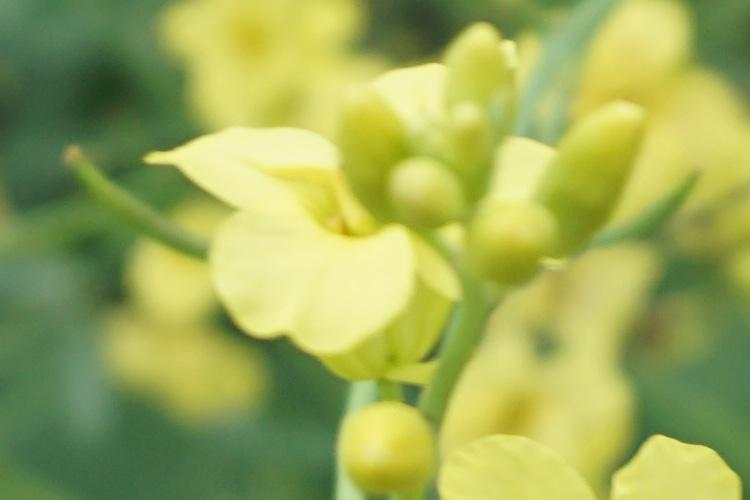bud: (539, 113, 641, 245), (453, 31, 533, 128), (344, 401, 436, 485), (468, 204, 557, 282), (342, 98, 406, 206), (391, 166, 463, 223), (459, 107, 498, 175)
yellow: (167, 72, 524, 354), (463, 248, 635, 452), (462, 424, 734, 497)
